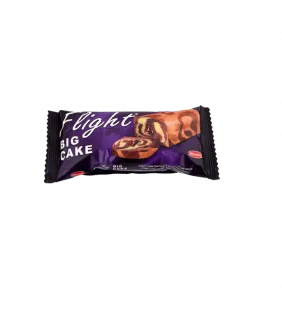FLIGHT: (35, 99, 229, 189)
